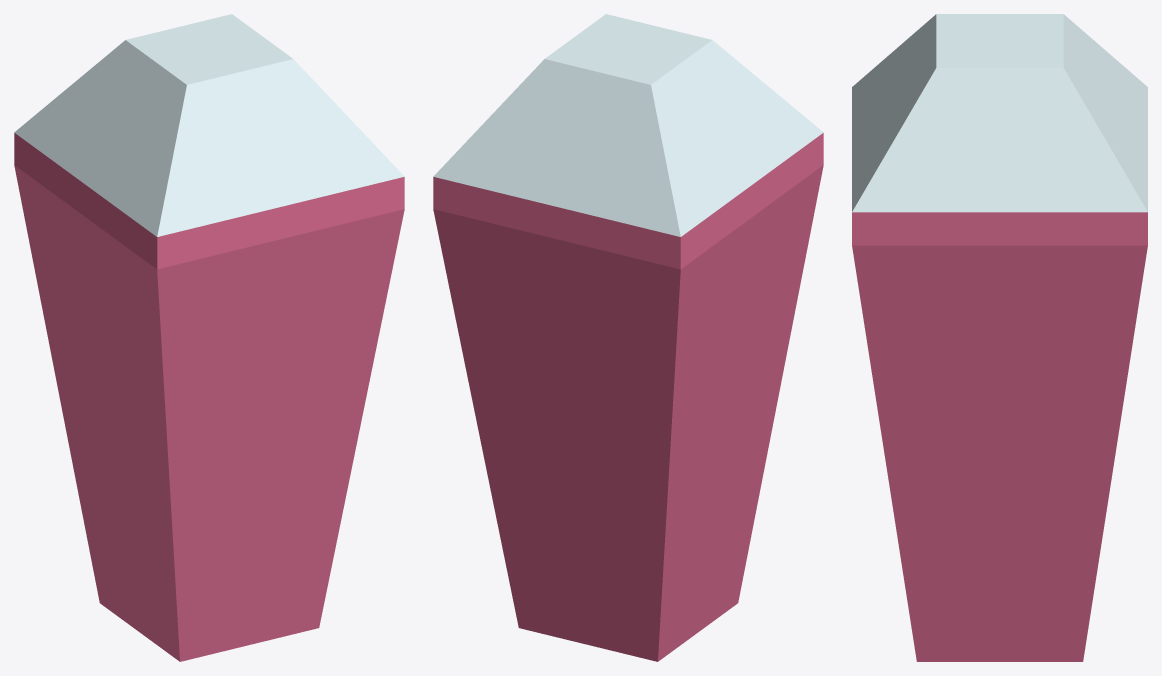
File: snowDetailCrystal.fbx
3 views of the same model, side by side, from view 1: azimuth 30°, elevation 25°; view 2: azimuth 150°, elevation 25°; view 3: azimuth 270°, elevation 25° (orthographic). The views are drawn at different scales.
Parts seen in each view (by area): view 1: snow_detail_crystal; view 2: snow_detail_crystal; view 3: snow_detail_crystal.
Boxes of the visible parts, left/top/right/bottom form: snow_detail_crystal: left=14, top=14, right=404, bottom=661; snow_detail_crystal: left=433, top=14, right=823, bottom=661; snow_detail_crystal: left=852, top=14, right=1147, bottom=661.
Size of the model in its own units: 0.1602 by 0.35 by 0.1602.
